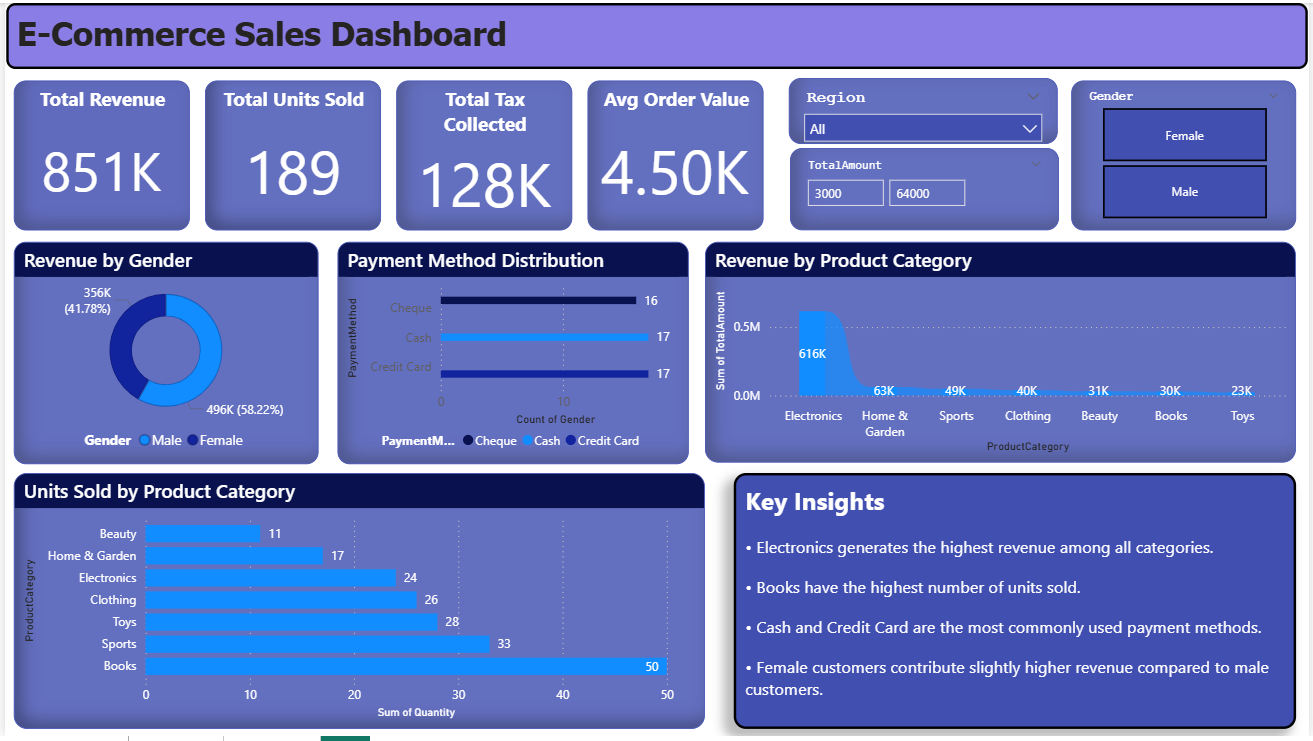

Layout of this report page (visuals, bound fields, positions):
{"tool":"powerbi","page":{"name":"Page 2","canvas":[1280,720],"ordinal":1},"visuals":[{"type":"card","title":"Total Revenue","fields":{"Values":["Sum(OrderDate.TotalAmount)"]},"box":[8.6,76.1,173,147.2],"z":0},{"type":"card","title":"Total Units Sold","fields":{"Values":["Sum(OrderDate.Quantity)"]},"box":[196.3,76.1,173,147.2],"z":1000},{"type":"card","title":"Total Tax Collected","fields":{"Values":["Sum(OrderDate.Tax)"]},"box":[384.1,76.1,173,147.2],"z":2000},{"type":"slicer","fields":{"Values":["OrderDate.Region"]},"box":[769.3,73.6,263.8,65],"z":3000},{"type":"slicer","fields":{"Values":["OrderDate.Gender"]},"box":[1046.6,76.1,220.9,147.2],"z":4000},{"type":"donutChart","title":"Revenue by Gender","fields":{"Category":["OrderDate.Gender"],"Y":["Sum(OrderDate.TotalAmount)"]},"box":[8.6,234.4,299.4,218.4],"z":5000},{"type":"ribbonChart","title":"Revenue by Product Category","fields":{"Category":["OrderDate.ProductCategory"],"Y":["Sum(OrderDate.TotalAmount)"]},"box":[687.1,234.4,580.4,217.2],"z":6000},{"type":"clusteredBarChart","title":"Units Sold by Product Category","fields":{"Category":["OrderDate.ProductCategory"],"Y":["Sum(OrderDate.Quantity)"]},"box":[8.6,461.4,678.5,251.5],"z":7000},{"type":"clusteredBarChart","title":"Payment Method Distribution","fields":{"Y":["CountNonNull(OrderDate.Gender)"],"Category":["OrderDate.PaymentMethod"],"Series":["OrderDate.PaymentMethod"]},"box":[326.4,234.4,344.8,218.4],"z":8000},{"type":"slicer","fields":{"Values":["OrderDate.TotalAmount"]},"box":[770.6,142.3,263.8,81],"z":9000},{"type":"textbox","box":[1.2,0,1277.3,65],"z":10000},{"type":"card","title":"Avg Order Value","fields":{"Values":["OrderDate.Average Order Value"]},"box":[571.8,76.1,173,147.2],"z":11000},{"type":"textbox","box":[715.3,461.4,552.2,251.5],"z":12000}]}

Visuals, with their boxes in screenshot pixels (x1, y1, x2, y2), scaled from the page's 1280x720 canvas onto the 1313x741 screenshot:
"Total Revenue" card: Rect(9, 78, 186, 230)
"Total Units Sold" card: Rect(201, 78, 379, 230)
"Total Tax Collected" card: Rect(394, 78, 571, 230)
slicer - OrderDate.Region: Rect(789, 76, 1060, 143)
slicer - OrderDate.Gender: Rect(1074, 78, 1300, 230)
"Revenue by Gender" donutChart: Rect(9, 241, 316, 466)
"Revenue by Product Category" ribbonChart: Rect(705, 241, 1300, 465)
"Units Sold by Product Category" clusteredBarChart: Rect(9, 475, 705, 734)
"Payment Method Distribution" clusteredBarChart: Rect(335, 241, 689, 466)
slicer - OrderDate.TotalAmount: Rect(790, 146, 1061, 230)
textbox: Rect(1, 0, 1311, 67)
"Avg Order Value" card: Rect(587, 78, 764, 230)
textbox: Rect(734, 475, 1300, 734)
